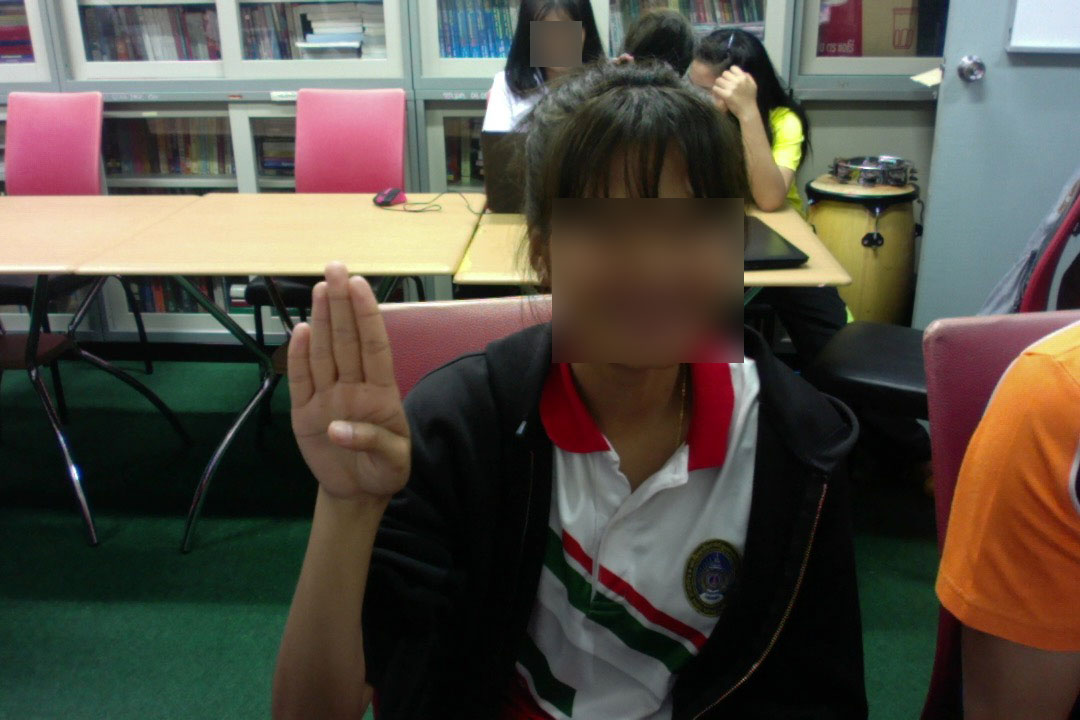bor: (278, 253, 417, 520)
